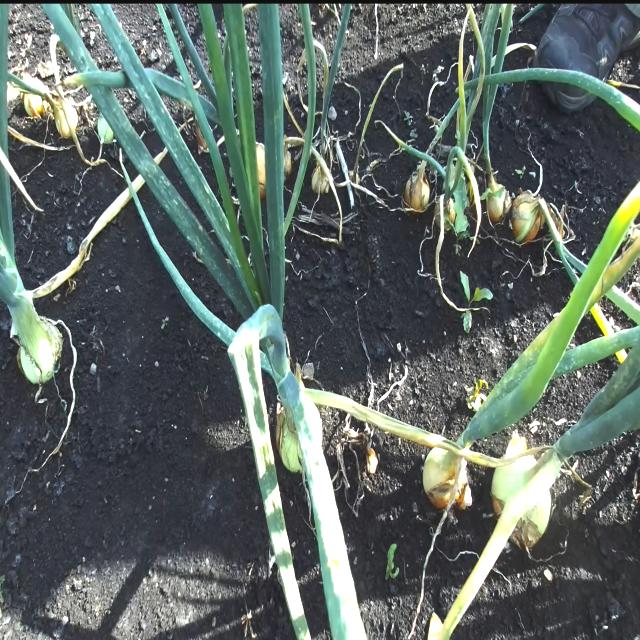onion: (491, 447, 562, 551), (422, 444, 472, 512), (18, 316, 64, 386), (510, 189, 545, 245), (276, 404, 304, 474), (481, 171, 512, 225), (404, 162, 430, 213), (53, 94, 78, 140), (98, 113, 114, 145)
